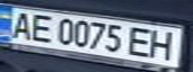0: (51, 16, 75, 46), (72, 18, 90, 48)
5: (103, 21, 127, 55)
7: (87, 19, 109, 51)
A: (3, 9, 36, 39)
E: (124, 25, 157, 58), (27, 11, 57, 43)
H: (145, 28, 181, 62)
